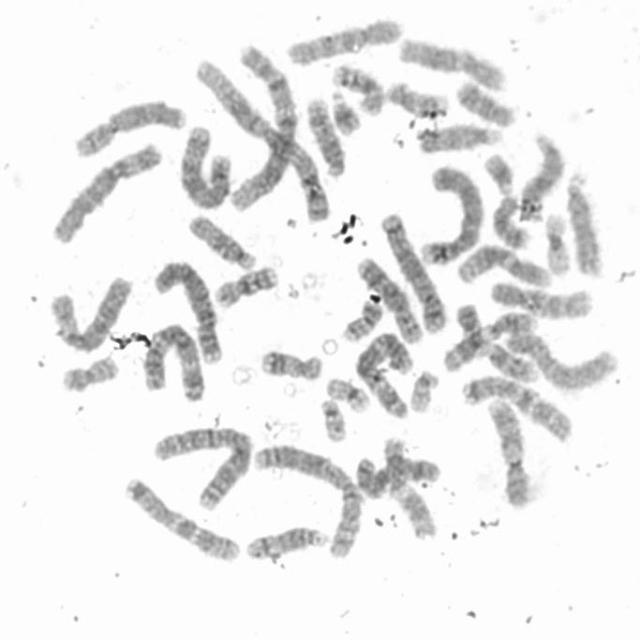A1: (192, 51, 332, 225), (226, 41, 298, 217)
A2: (251, 441, 365, 562), (149, 421, 254, 512)
A3: (351, 329, 416, 420), (139, 318, 206, 403)
B4: (149, 258, 223, 364), (416, 160, 484, 268)
B5: (379, 208, 447, 336), (174, 123, 233, 214)
C10: (283, 15, 406, 67), (485, 276, 594, 321)
C11: (442, 310, 536, 379), (380, 435, 440, 542)
C12: (395, 34, 508, 93), (452, 242, 553, 290)
C6: (48, 137, 165, 245), (45, 270, 135, 354)
C7: (118, 474, 242, 564), (458, 371, 574, 445)
C8: (70, 94, 188, 161), (352, 252, 424, 344)
C9: (453, 300, 542, 386), (485, 392, 533, 510)
D13: (514, 133, 568, 223), (562, 168, 604, 278)
D14: (304, 98, 350, 179), (243, 521, 329, 561)
D15: (185, 212, 258, 271), (412, 120, 504, 154)
E16: (328, 59, 386, 118), (211, 263, 281, 310)
E17: (383, 77, 450, 118), (257, 345, 323, 381)
E18: (452, 76, 517, 128), (489, 191, 531, 251)
F19: (542, 208, 572, 278), (322, 374, 373, 415)
F20: (57, 352, 121, 395), (337, 298, 385, 344)
G21: (328, 86, 363, 137), (481, 149, 515, 196)
G22: (316, 395, 348, 444), (406, 367, 439, 413)
X: (504, 332, 620, 398), (355, 454, 443, 500)
